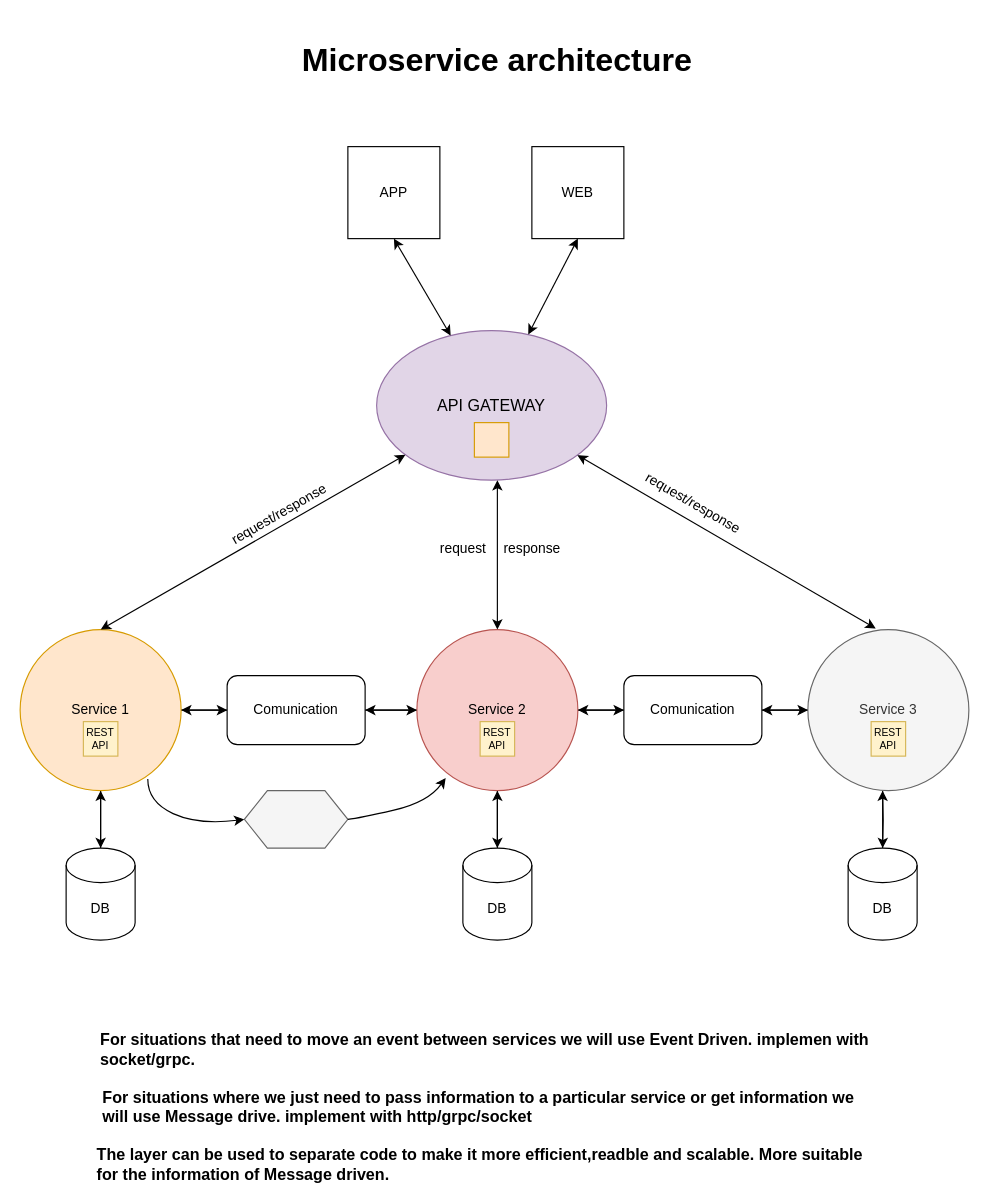
The diagram is 989 pixels wide and 1203 high, and some of its shapes have lost their labels. The shapes that lost their labels are listed below. From the top down, each one's centre as x and y in pixels, then its label:
the point at 491,439: NGINX
the point at 295,818: Layer
